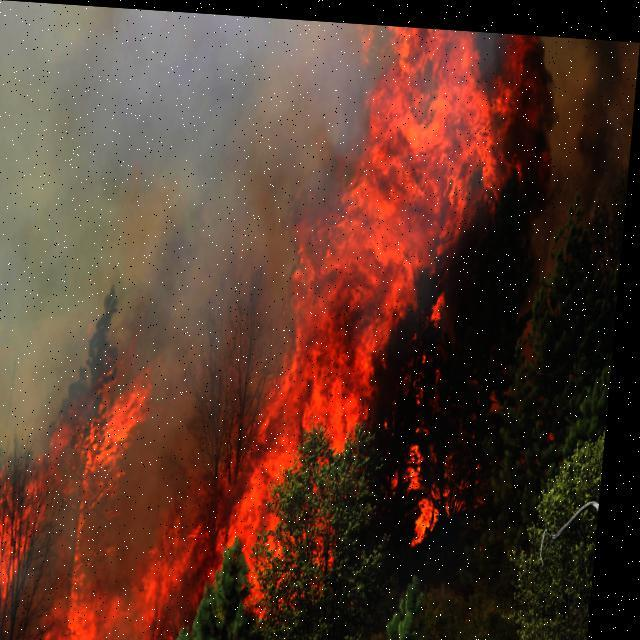Fire: (0, 13, 546, 639)
